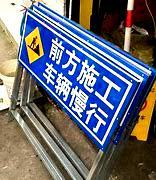sign: (11, 25, 120, 139)
